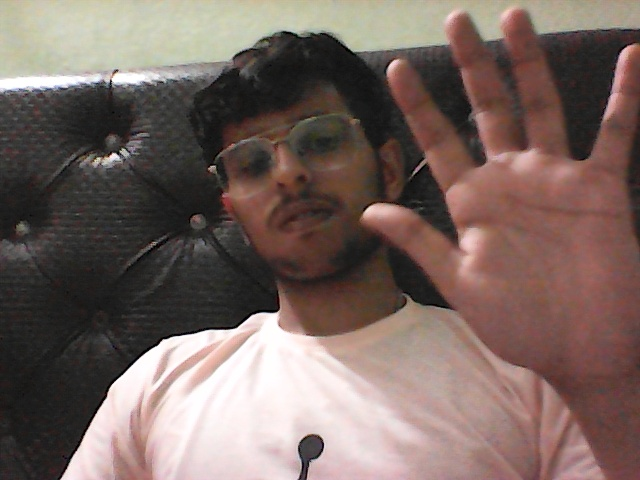hello: (338, 4, 640, 409)
